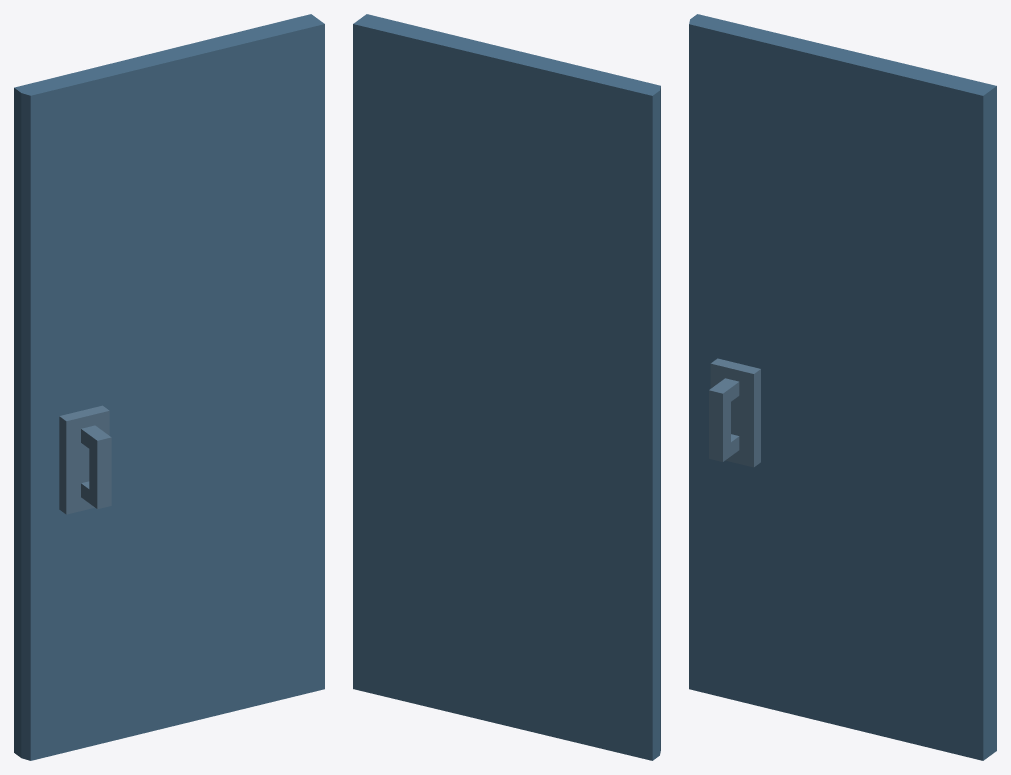
Rendered from doorOfficeR.fbx.
3 renders of one model, left to right at view 1: azimuth 30°, elevation 25°; view 2: azimuth 150°, elevation 25°; view 3: azimuth 330°, elevation 25°, orthographic.
Visible parts, largest first — view 1: doorOfficeR; view 2: doorOfficeR; view 3: doorOfficeR.
Part boxes in pixels (x1,y1,x2,y2): doorOfficeR: (14,14,324,760); doorOfficeR: (353,14,660,760); doorOfficeR: (689,14,996,760).
Size of the model in its own units: 515 by 1098 by 111.
